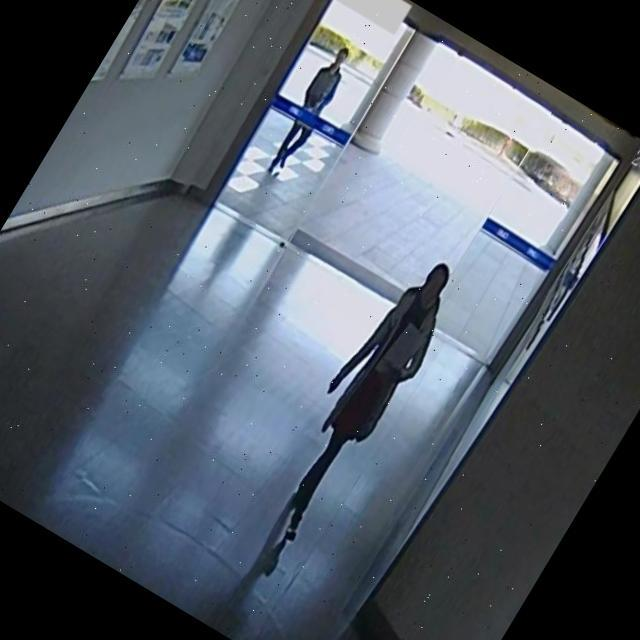person: (234, 237, 481, 566), (250, 32, 371, 191)
